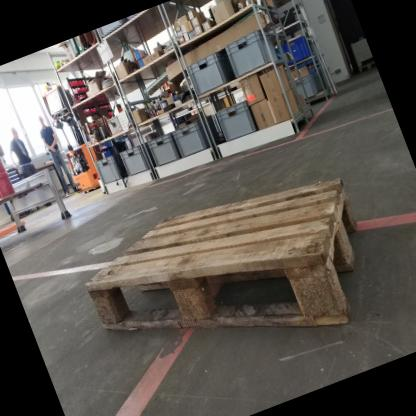BoxFace: (80, 172, 363, 335)
